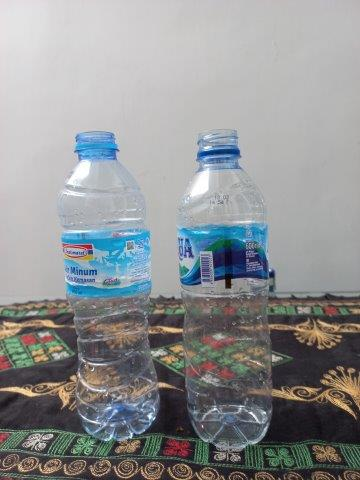botolplastik: (57, 130, 160, 440), (178, 129, 271, 449)
